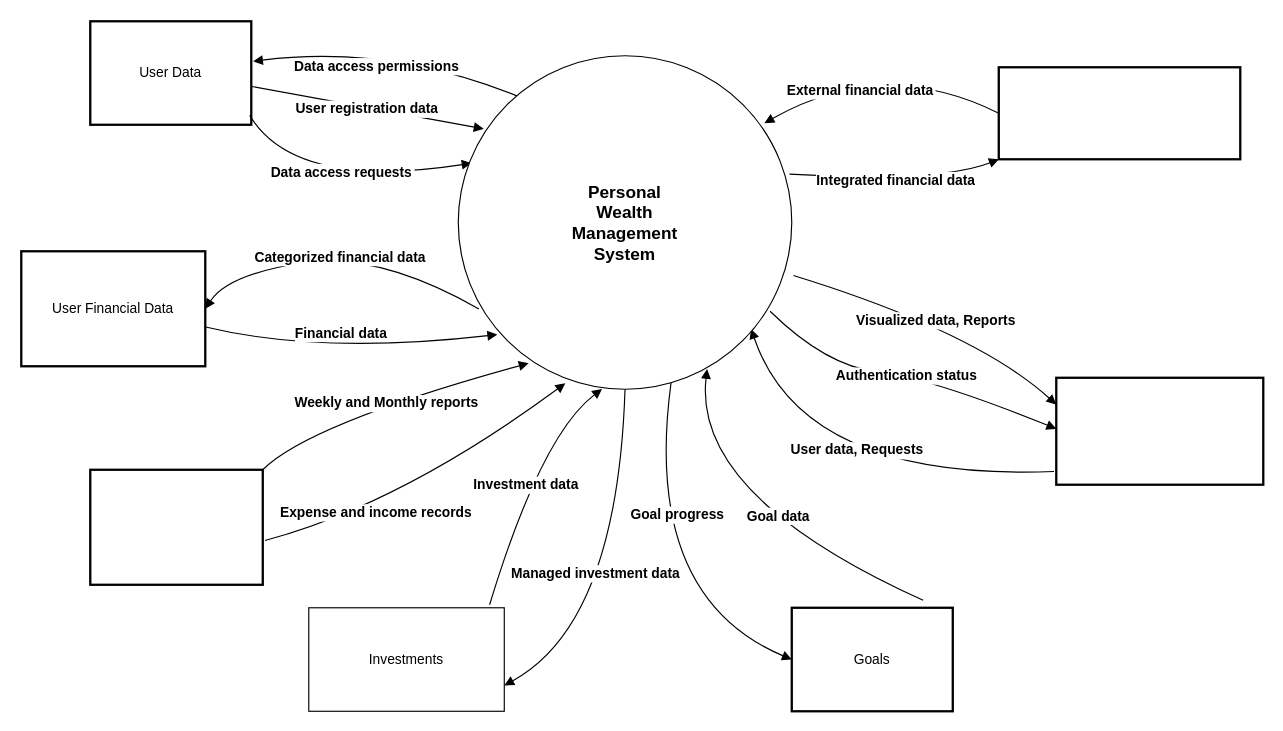
Some shapes in this 1283 by 731 pixel diagram are drawn without their labels. Each missing label, with the centre of its shape:
Financial Data Sources: pixel 1119 113
Reports: pixel 176 526
User: pixel 1159 430
